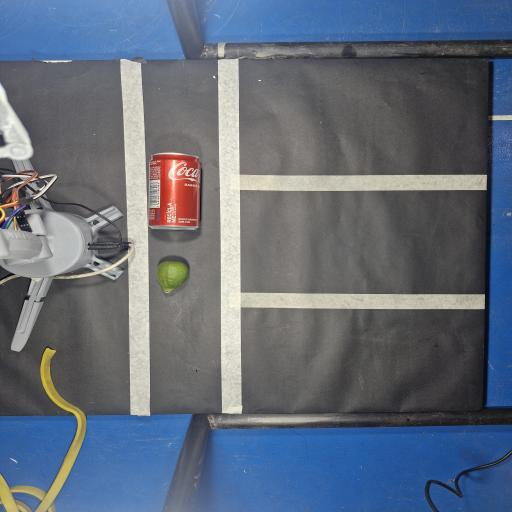higo: (157, 261, 188, 293)
lata: (149, 154, 200, 230)
